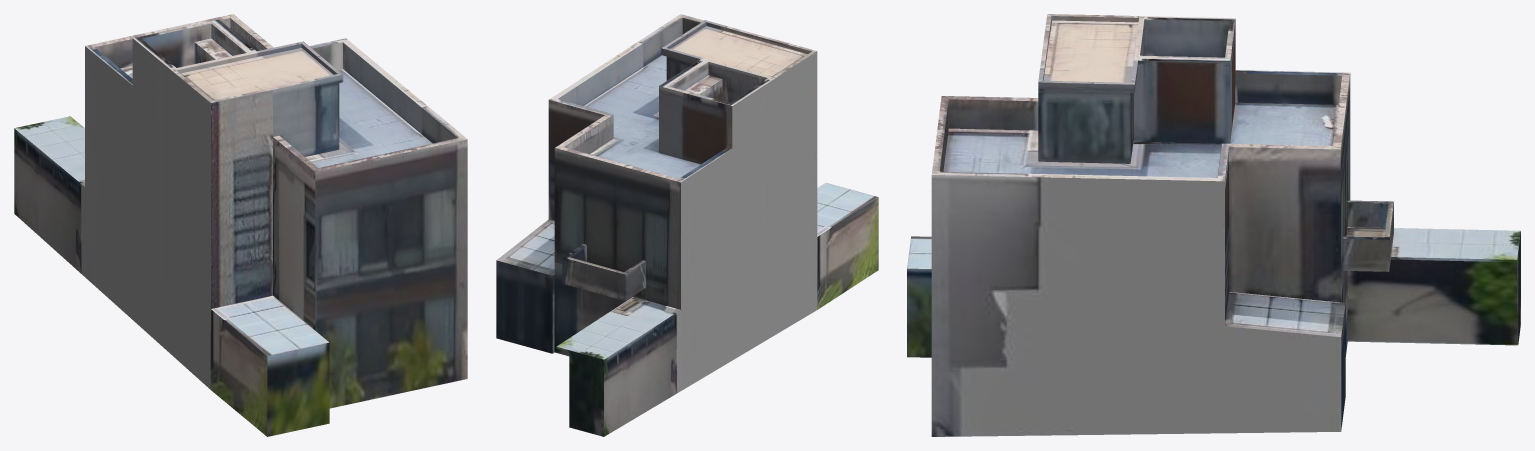
The picture shows the model from 3 angles, left to right: view 1: azimuth 30°, elevation 25°; view 2: azimuth 150°, elevation 25°; view 3: azimuth 270°, elevation 25°; orthographic projection. The views are drawn at different scales.
Parts seen in each view (by area): view 1: B282914030901062A0; view 2: B282914030901062A0; view 3: B282914030901062A0.
Boxes of the visible parts, bbox=[...] form: B282914030901062A0: bbox=[14, 14, 467, 436]; B282914030901062A0: bbox=[496, 14, 878, 436]; B282914030901062A0: bbox=[907, 14, 1520, 436].
Bounding box in the file's own units: 9.3 × 11.24 × 19.92.
Materials: 1 (1 with a texture image).
